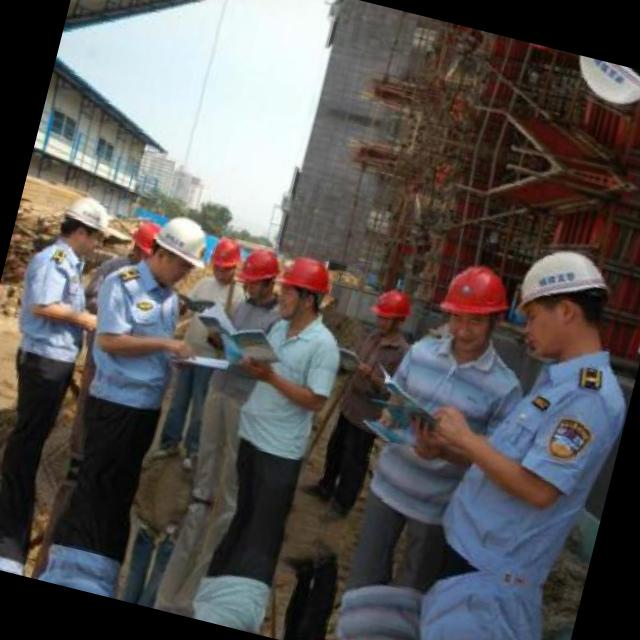helmet: (502, 238, 625, 372), (428, 259, 514, 359), (139, 208, 212, 294), (264, 248, 338, 329), (52, 186, 120, 262), (565, 54, 640, 117), (228, 237, 283, 307), (198, 232, 246, 292), (363, 286, 414, 338), (124, 217, 166, 268)
